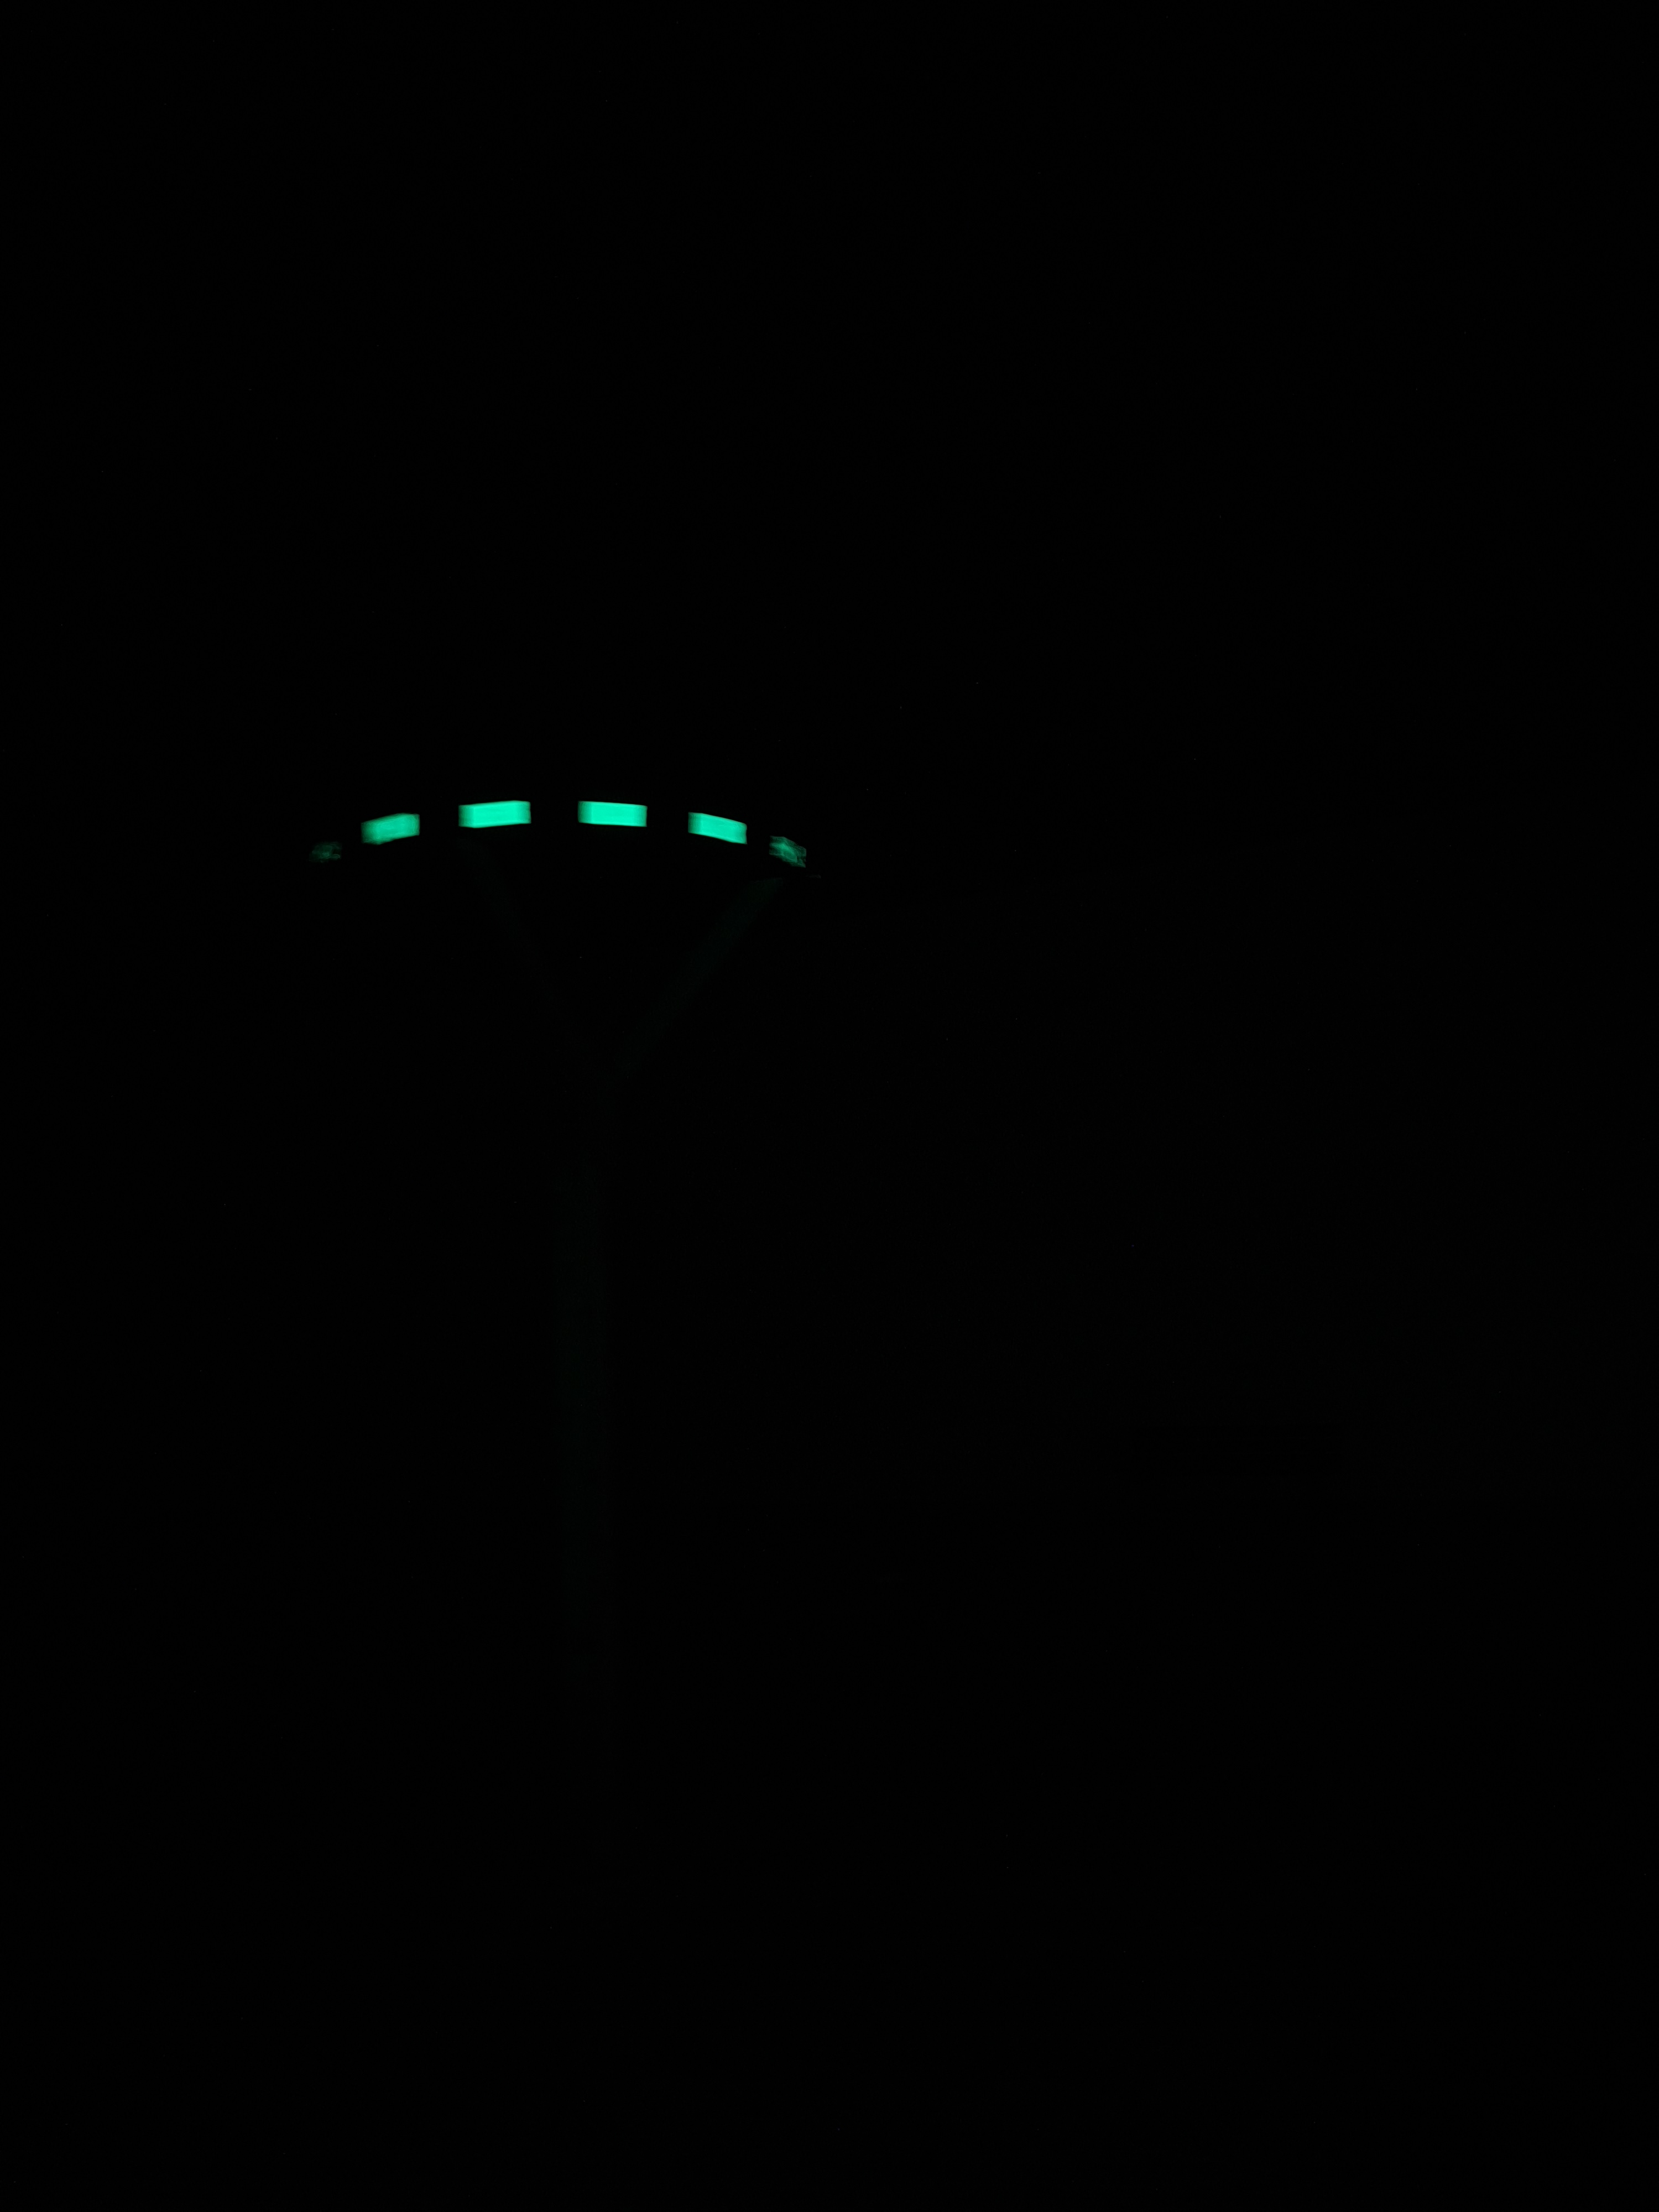hoop: (293, 791, 826, 899)
